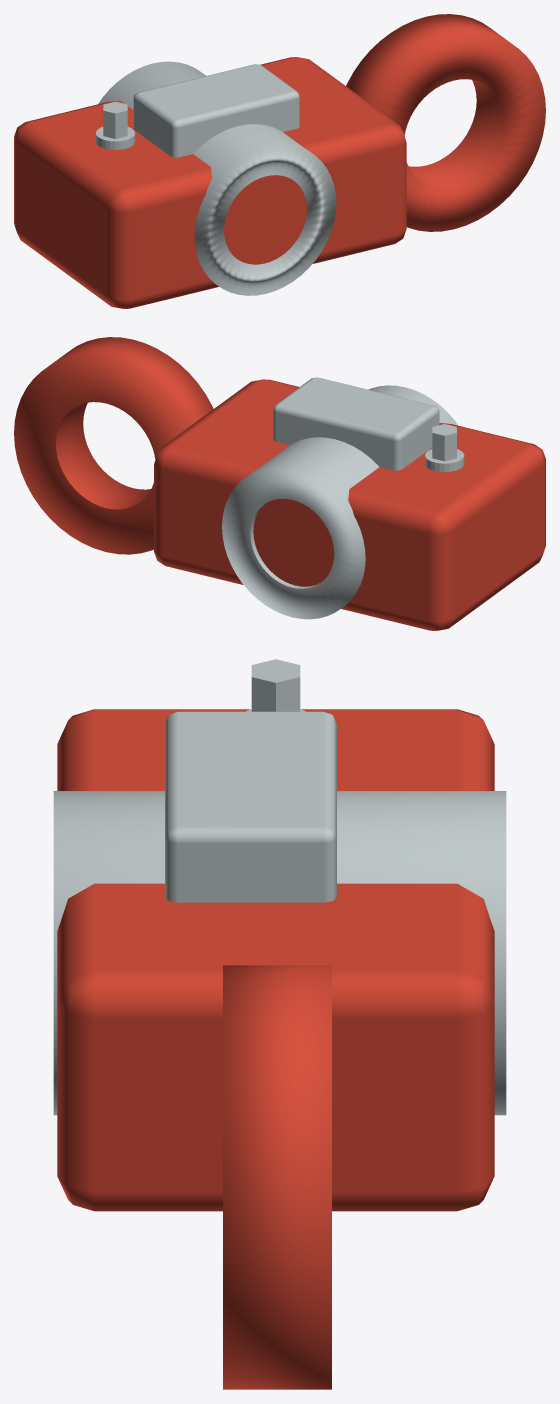
File: broadcast-tower-and-relay-station-broadcast-tower-and--4eabd8c1__30270.glb
The picture shows the model from 3 angles, top to bottom: view 1: azimuth 30°, elevation 25°; view 2: azimuth 150°, elevation 25°; view 3: azimuth 270°, elevation 25°; orthographic projection. The views are drawn at different scales.
Parts seen in each view (by area): view 1: broadcast-tower-and-relay-station-coax-stripping-tool; view 2: broadcast-tower-and-relay-station-coax-stripping-tool; view 3: broadcast-tower-and-relay-station-coax-stripping-tool.
Part boxes in pixels (bbox=[...]): broadcast-tower-and-relay-station-coax-stripping-tool: bbox=[14, 14, 545, 308]; broadcast-tower-and-relay-station-coax-stripping-tool: bbox=[14, 337, 545, 630]; broadcast-tower-and-relay-station-coax-stripping-tool: bbox=[53, 659, 506, 1389].
Size of the model in its own units: 0.348 by 0.136 by 0.145.
